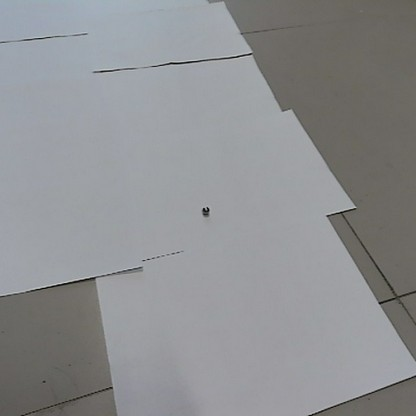ironball: (200, 204, 209, 215)
